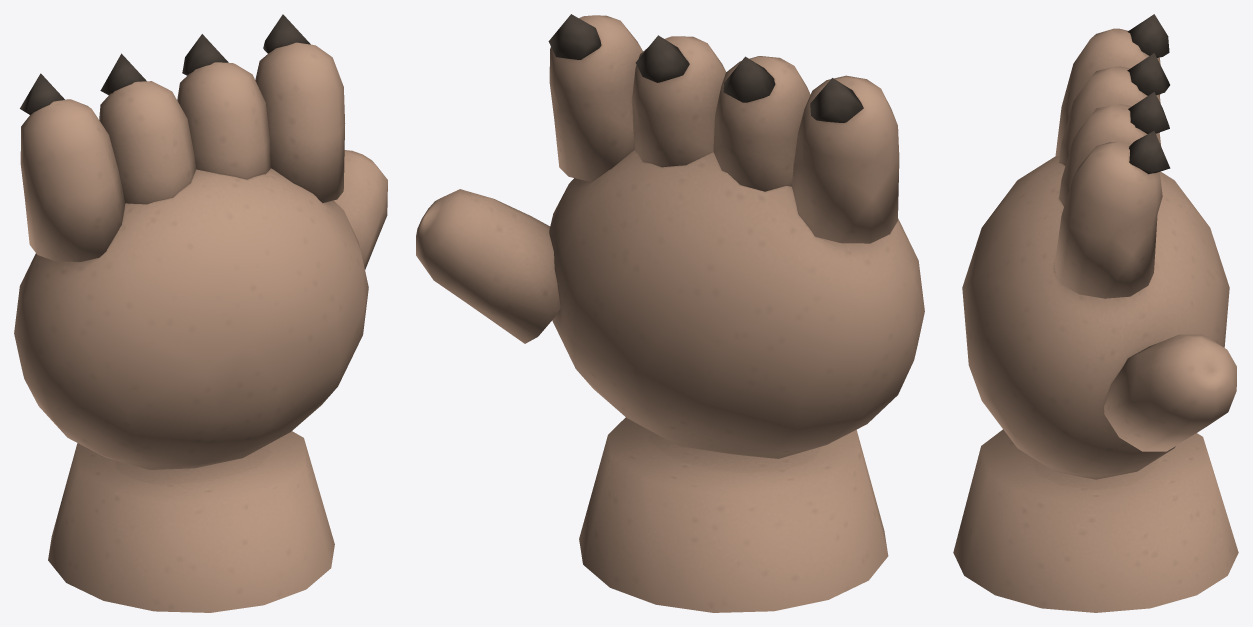
File: cpart_hand_paw.glb
3 views of the same model, side by side, from view 1: azimuth 30°, elevation 25°; view 2: azimuth 150°, elevation 25°; view 3: azimuth 270°, elevation 25° (orthographic). The views are drawn at different scales.
Visible parts, largest first — view 1: HandPaw, Nails; view 2: HandPaw, Nails; view 3: HandPaw, Nails.
Boxes of the visible parts, bbox=[...] form: HandPaw: bbox=[14, 42, 387, 612]; Nails: bbox=[20, 14, 310, 114]; HandPaw: bbox=[416, 15, 924, 612]; Nails: bbox=[548, 14, 863, 122]; HandPaw: bbox=[953, 28, 1238, 612]; Nails: bbox=[1127, 14, 1170, 173].
Size of the model in its own units: 0.1035 by 0.1189 by 0.064.
2 materials, 2 textured.
